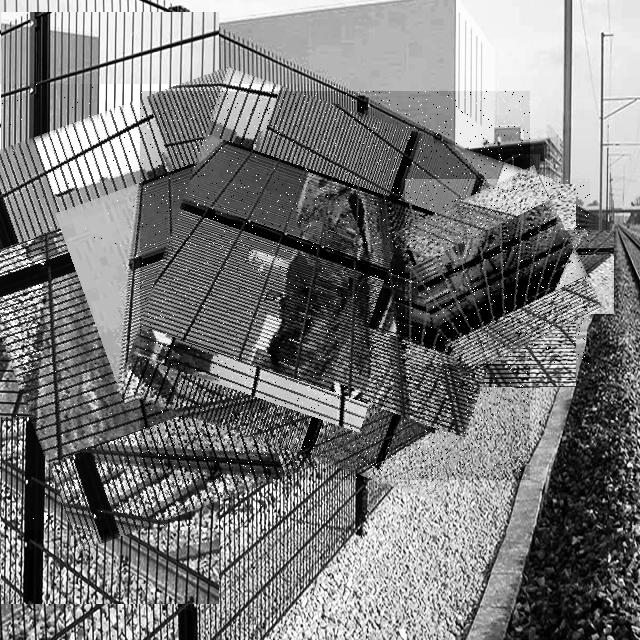fences: (0, 84, 341, 530), (140, 91, 530, 480), (405, 179, 590, 364)
